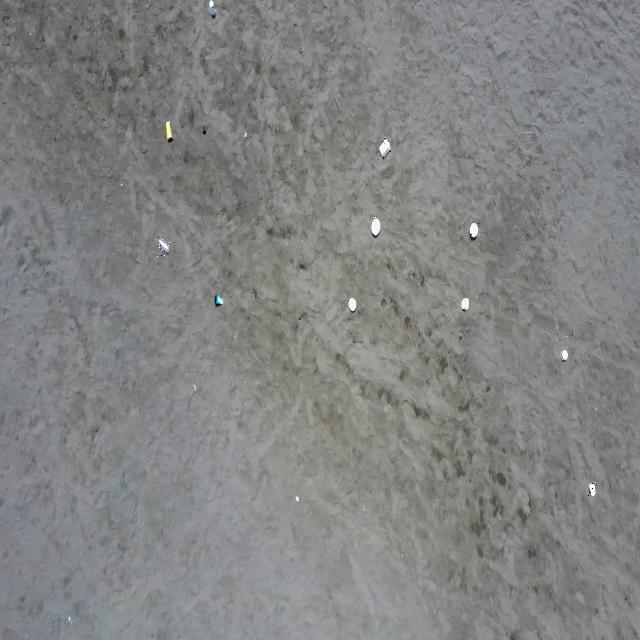take-away-containers: (379, 137, 391, 159), (468, 221, 479, 240), (371, 217, 381, 237), (348, 297, 357, 313), (560, 349, 569, 363), (588, 482, 596, 497), (461, 297, 469, 311)
takeaway-cup: (157, 236, 171, 257), (165, 120, 174, 144), (208, 0, 217, 18), (214, 293, 224, 307)
